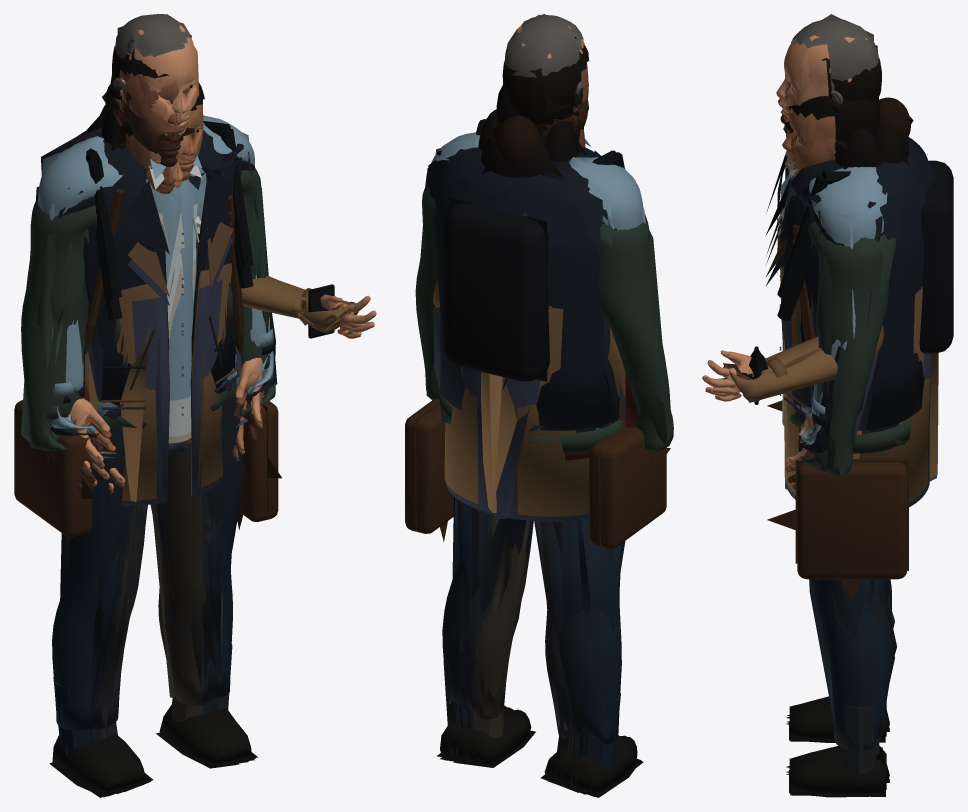
File: commuters.glb
3 views of the same model, side by side, from view 1: azimuth 30°, elevation 25°; view 2: azimuth 150°, elevation 25°; view 3: azimuth 270°, elevation 25° (orthographic).
Visible parts, largest first — view 1: commuter_03__cloth, commuter_05__cloth, commuter_06__cloth, commuter_01__cloth, commuter_02__cloth, commuter_01__leather, commuter_02__cloth_low, commuter_01__cloth_low, commuter_03__cloth_low, commuter_06__leather, commuter_06__cloth_low, commuter_05__skin (+17 smaller); view 2: commuter_03__cloth, commuter_01__cloth, commuter_05__cloth, commuter_02__cloth, commuter_03__cloth_low, commuter_02__cloth_low, commuter_01__leather, commuter_06__cloth, commuter_01__cloth_low, commuter_06__cloth_low, commuter_04__leather, commuter_04__hair (+12 smaller); view 3: commuter_03__cloth, commuter_01__cloth, commuter_05__cloth, commuter_04__leather, commuter_02__leather, commuter_02__cloth, commuter_04__hair, commuter_03__cloth_low, commuter_01__cloth_low, commuter_05__hair, commuter_02__cloth_low, commuter_05__skin (+15 smaller).
Part boxes in pixels (x1=…): commuter_03__cloth: x1=21, y1=168, x2=275, y2=752; commuter_05__cloth: x1=38, y1=115, x2=273, y2=741; commuter_06__cloth: x1=94, y1=227, x2=247, y2=738; commuter_01__cloth: x1=50, y1=127, x2=275, y2=741; commuter_02__cloth: x1=89, y1=216, x2=358, y2=740; commuter_01__leather: x1=14, y1=188, x2=248, y2=796; commuter_02__cloth_low: x1=84, y1=222, x2=353, y2=713; commuter_01__cloth_low: x1=41, y1=132, x2=275, y2=713; commuter_03__cloth_low: x1=21, y1=184, x2=277, y2=753; commuter_06__leather: x1=103, y1=222, x2=278, y2=787; commuter_06__cloth_low: x1=101, y1=237, x2=247, y2=729; commuter_05__skin: x1=68, y1=36, x2=262, y2=469; commuter_03__cloth: x1=415, y1=187, x2=673, y2=767; commuter_01__cloth: x1=434, y1=147, x2=619, y2=756; commuter_05__cloth: x1=431, y1=119, x2=643, y2=755; commuter_02__cloth: x1=433, y1=279, x2=625, y2=754; commuter_03__cloth_low: x1=423, y1=174, x2=667, y2=763; commuter_02__cloth_low: x1=478, y1=328, x2=624, y2=730; commuter_01__leather: x1=444, y1=427, x2=666, y2=796; commuter_06__cloth: x1=435, y1=307, x2=625, y2=753; commuter_01__cloth_low: x1=420, y1=150, x2=637, y2=737; commuter_06__cloth_low: x1=434, y1=348, x2=615, y2=730; commuter_04__leather: x1=405, y1=399, x2=578, y2=792; commuter_04__hair: x1=478, y1=85, x2=579, y2=177; commuter_03__cloth: x1=777, y1=213, x2=953, y2=750; commuter_01__cloth: x1=777, y1=137, x2=928, y2=738; commuter_05__cloth: x1=777, y1=160, x2=953, y2=735; commuter_04__leather: x1=789, y1=224, x2=907, y2=797; commuter_02__leather: x1=754, y1=239, x2=907, y2=775; commuter_02__cloth: x1=723, y1=223, x2=929, y2=502; commuter_04__hair: x1=788, y1=96, x2=909, y2=167; commuter_03__cloth_low: x1=777, y1=219, x2=927, y2=771; commuter_01__cloth_low: x1=766, y1=145, x2=936, y2=630; commuter_05__hair: x1=793, y1=19, x2=879, y2=104; commuter_02__cloth_low: x1=723, y1=214, x2=938, y2=597; commuter_05__skin: x1=776, y1=42, x2=831, y2=464.
Bounding box in the file's own units: 0.7364 × 1.84 × 0.5705.
